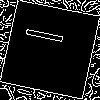I: (25, 24, 74, 49)
